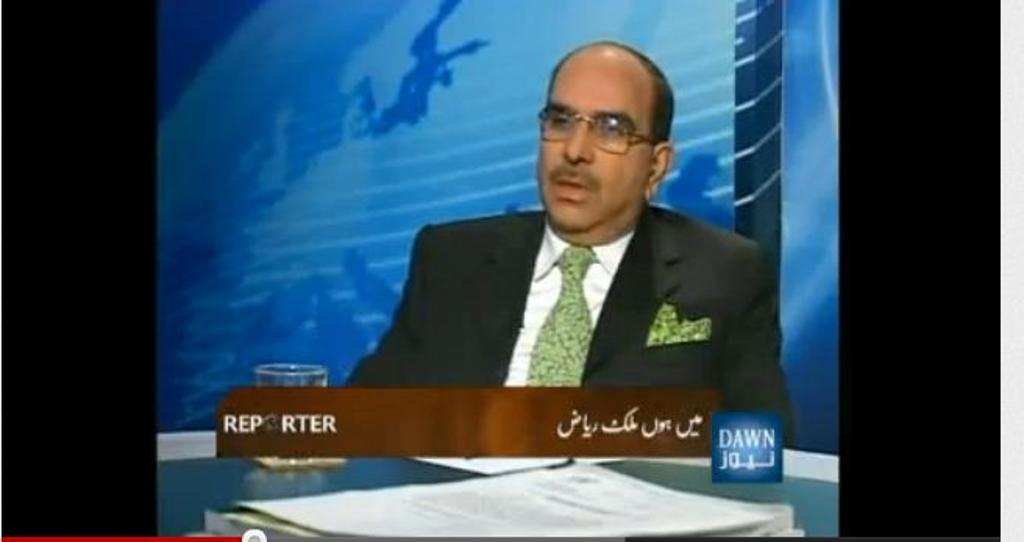face: (546, 50, 654, 234)
